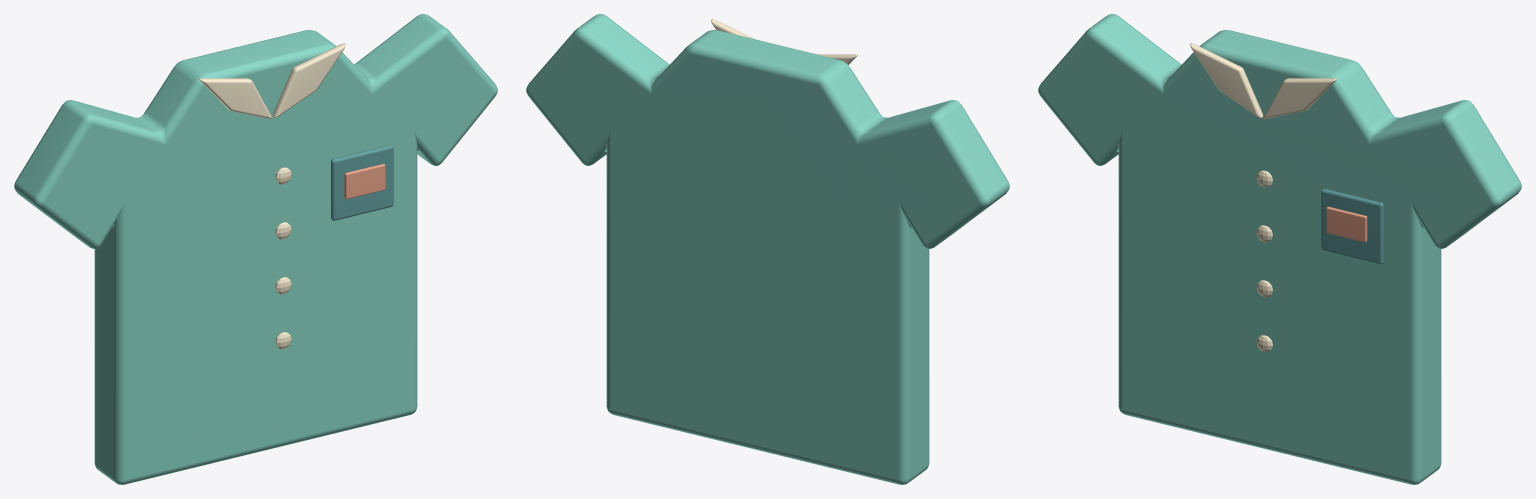
Rendered from HangerClothingPrototype.fbx.
3 views of the same model, side by side, from view 1: azimuth 30°, elevation 25°; view 2: azimuth 150°, elevation 25°; view 3: azimuth 330°, elevation 25° (orthographic).
Visible parts, largest first — view 1: 01 • Mint work shirt, Chest pocket, Folded collar • right, Folded collar • left, Laundry name tag; view 2: 01 • Mint work shirt; view 3: 01 • Mint work shirt, Chest pocket, Folded collar • left, Folded collar • right, Laundry name tag.
Boxes of the visible parts, x1,y1,x2,y2 form: 01 • Mint work shirt: [14, 14, 497, 484]; Chest pocket: [331, 145, 393, 220]; Folded collar • right: [272, 43, 345, 118]; Folded collar • left: [199, 78, 272, 118]; Laundry name tag: [344, 164, 385, 199]; 01 • Mint work shirt: [526, 14, 1009, 484]; 01 • Mint work shirt: [1038, 14, 1521, 484]; Chest pocket: [1321, 189, 1383, 264]; Folded collar • left: [1190, 43, 1263, 118]; Folded collar • right: [1263, 78, 1336, 118]; Laundry name tag: [1326, 206, 1367, 242].
Bounding box in the file's own units: 1.5 × 1.22 × 0.2059.
